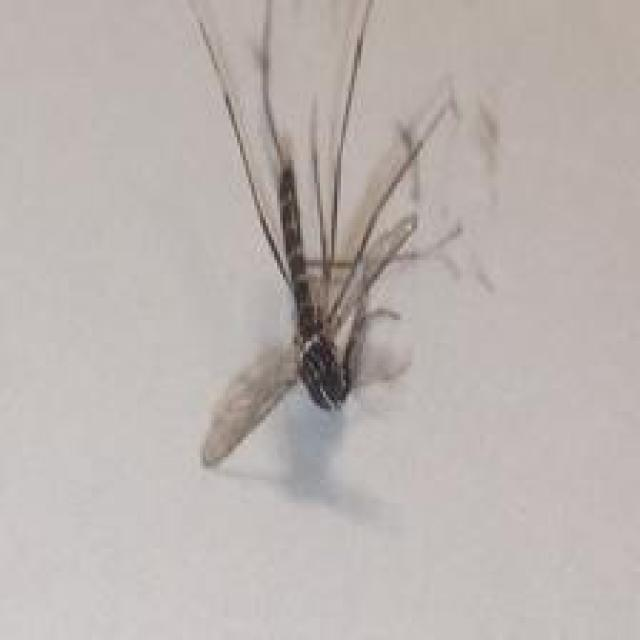Aedes albopictus: (160, 0, 500, 469)
